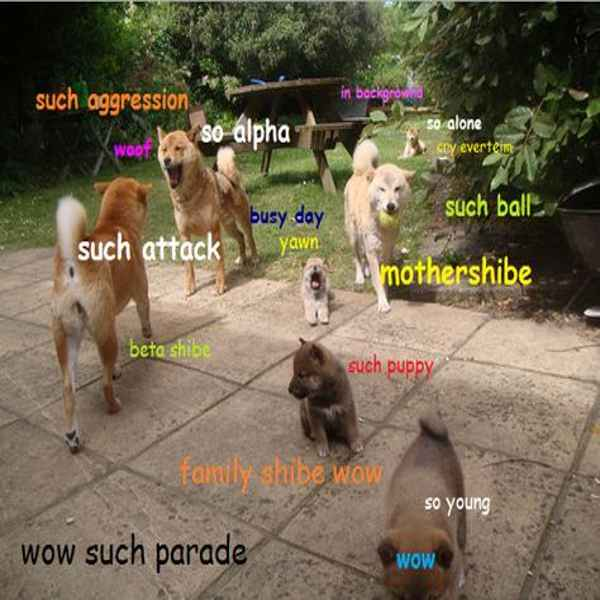doge: (361, 161, 414, 225), (157, 129, 201, 190)
